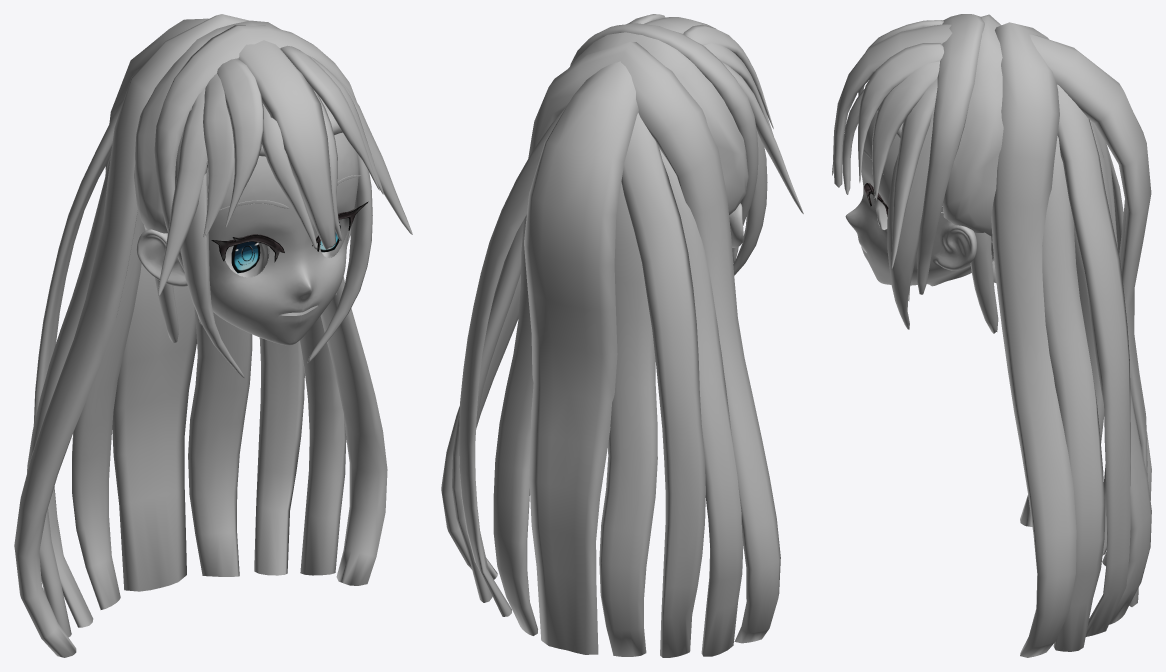
Rendered from female_hair_long.glb.
The picture shows the model from 3 angles, left to right: view 1: azimuth 30°, elevation 25°; view 2: azimuth 150°, elevation 25°; view 3: azimuth 270°, elevation 25°; orthographic projection. The views are drawn at different scales.
Parts seen in each view (by area): view 1: hair_10, hair_8, hair_7, face_1, hair_9, hair_11, hair, hair_4, hair_3, hair_1, hair_0, hair_15 (+7 smaller); view 2: hair_7, hair_9, hair_8, hair_10, hair_11, hair_15, hair_4, hair_1, hair_3, hair_0, hair_2, hair; view 3: hair_10, hair_9, hair_11, hair_7, hair_15, hair_4, face_1, hair_8, hair_1, hair_3, hair, hair_2 (+3 smaller).
Boxes of the visible parts, left/top/right/bottom form: hair_10: left=14, top=14, right=387, bottom=657; hair_8: left=72, top=152, right=252, bottom=609; hair_7: left=105, top=18, right=208, bottom=591; face_1: left=136, top=132, right=358, bottom=345; hair_9: left=33, top=18, right=304, bottom=627; hair_11: left=27, top=159, right=346, bottom=637; hair: left=238, top=40, right=335, bottom=249; hair_4: left=154, top=25, right=356, bottom=326; hair_3: left=217, top=45, right=379, bottom=227; hair_1: left=175, top=107, right=372, bottom=378; hair_0: left=158, top=64, right=412, bottom=296; hair_15: left=134, top=20, right=342, bottom=233; hair_7: left=524, top=61, right=638, bottom=654; hair_9: left=459, top=61, right=705, bottom=657; hair_8: left=493, top=182, right=657, bottom=656; hair_10: left=441, top=42, right=780, bottom=643; hair_11: left=452, top=148, right=743, bottom=656; hair_15: left=568, top=32, right=748, bottom=214; hair_4: left=570, top=23, right=758, bottom=263; hair_1: left=733, top=129, right=767, bottom=275; hair_3: left=628, top=14, right=773, bottom=128; hair_0: left=722, top=62, right=803, bottom=213; hair_2: left=626, top=23, right=773, bottom=136; hair: left=644, top=17, right=715, bottom=33; hair_10: left=991, top=22, right=1076, bottom=657; hair_9: left=1029, top=34, right=1130, bottom=636; hair_11: left=1042, top=136, right=1104, bottom=651; hair_7: left=1030, top=34, right=1151, bottom=606; hair_15: left=876, top=14, right=1003, bottom=242; hair_4: left=917, top=14, right=984, bottom=294; face_1: left=845, top=112, right=994, bottom=286; hair_8: left=1084, top=119, right=1151, bottom=624; hair_1: left=887, top=98, right=936, bottom=329; hair_3: left=858, top=20, right=943, bottom=182; hair: left=833, top=24, right=952, bottom=187; hair_2: left=872, top=61, right=939, bottom=200.
Bounding box in the file's own units: 0.4739 × 0.7633 × 0.3858.
27 materials, 2 textured.
